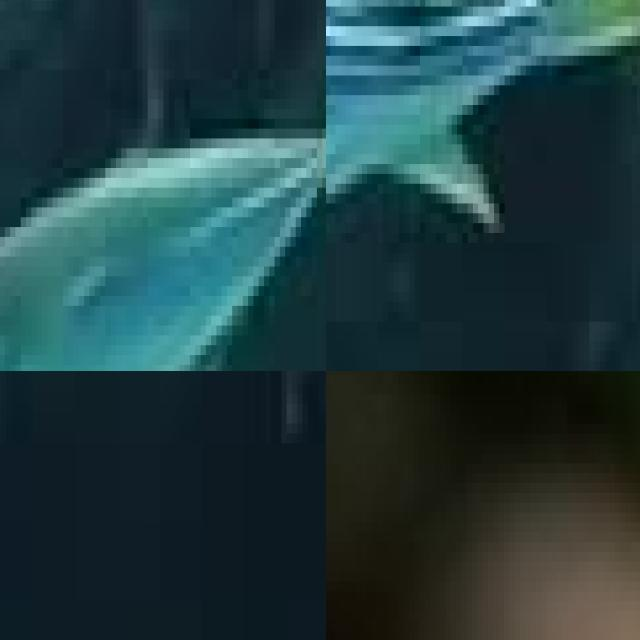fish: (0, 0, 326, 371), (326, 0, 640, 282)
